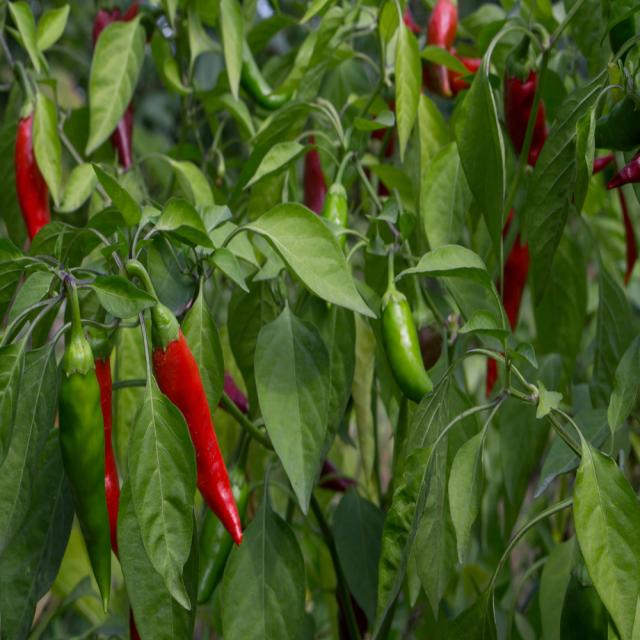Ripe: (152, 331, 242, 543), (501, 70, 552, 170), (95, 356, 120, 556), (15, 113, 51, 240), (502, 235, 530, 330)
Unripe: (59, 369, 111, 611), (381, 248, 432, 403)
